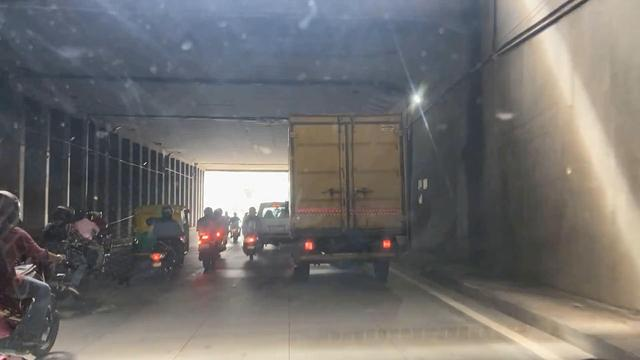HMV: (288, 118, 409, 285)
LMV: (149, 209, 185, 284), (200, 201, 222, 275)
